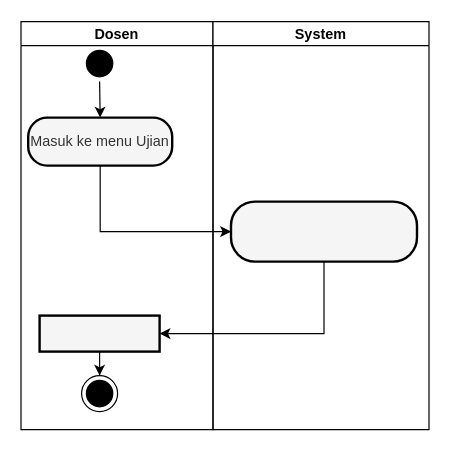
Image size: 450x450. Some labels were removed from this diagram. The centre of each missing label's shape, as x and y in pixels:
"Melihat Jadwal Ujian" goes at pixel 99 333.
"Menampilkan Jadwal Ujian Dosen" goes at pixel 323 231.
